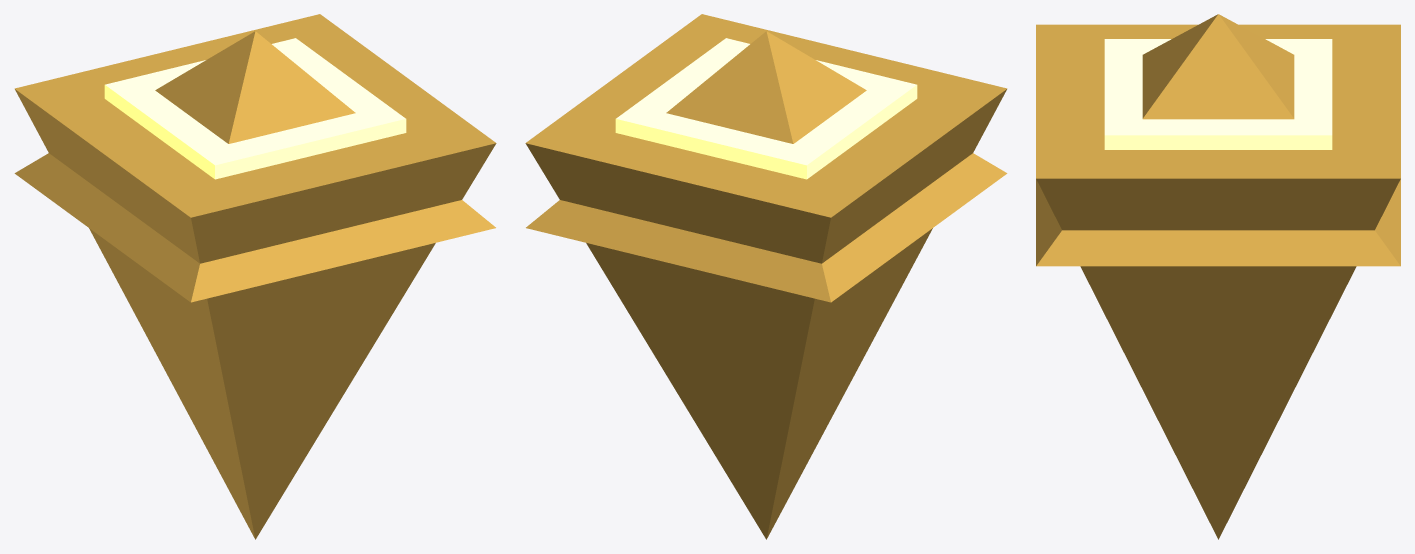
The model's file is pointer.glb.
3 views of the same model, side by side, from view 1: azimuth 30°, elevation 25°; view 2: azimuth 150°, elevation 25°; view 3: azimuth 270°, elevation 25° (orthographic). The views are drawn at different scales.
Visible parts, largest first — view 1: pointer; view 2: pointer; view 3: pointer.
Boxes of the visible parts, x1,y1,x2,y2 form: pointer: [14, 14, 496, 539]; pointer: [525, 14, 1007, 539]; pointer: [1036, 14, 1400, 539].
Bounding box in the file's own units: 0.2263 × 0.36 × 0.2263.
